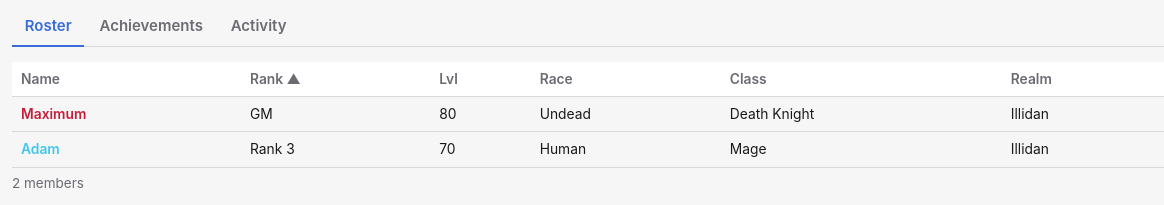
Test: GuildDetail — lazy sub-tabs › fetches activity only after the Activity tab is selected
Expected: the text "Maximum" is shown, [12,97,241,132]
Step 1. Click the tab "Activity" → {"x": 259, "y": 27}, box [218,8,299,47]
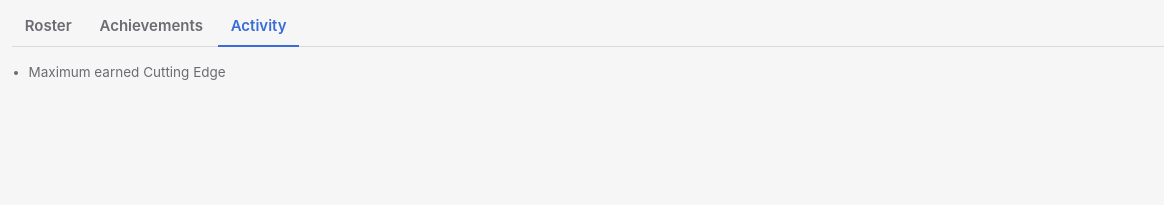
Expected: the list item "Maximum earned Cutting Edge" is shown, [28,64,226,80]
